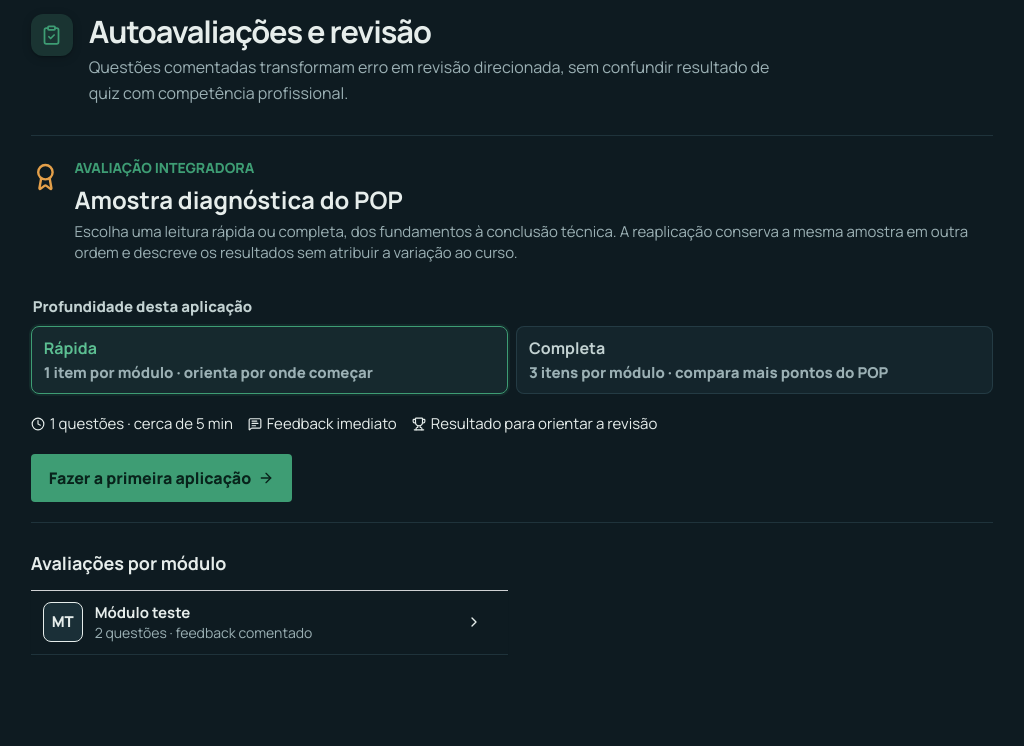
Test: interação acessível das autoavaliações › preserva confiança e remediação sem expor metadados de autoria
Click the button "MT Módulo teste 2 questões · feedback comentado".
click(269, 622)  # box [31,590,508,655]
(page scrolled)
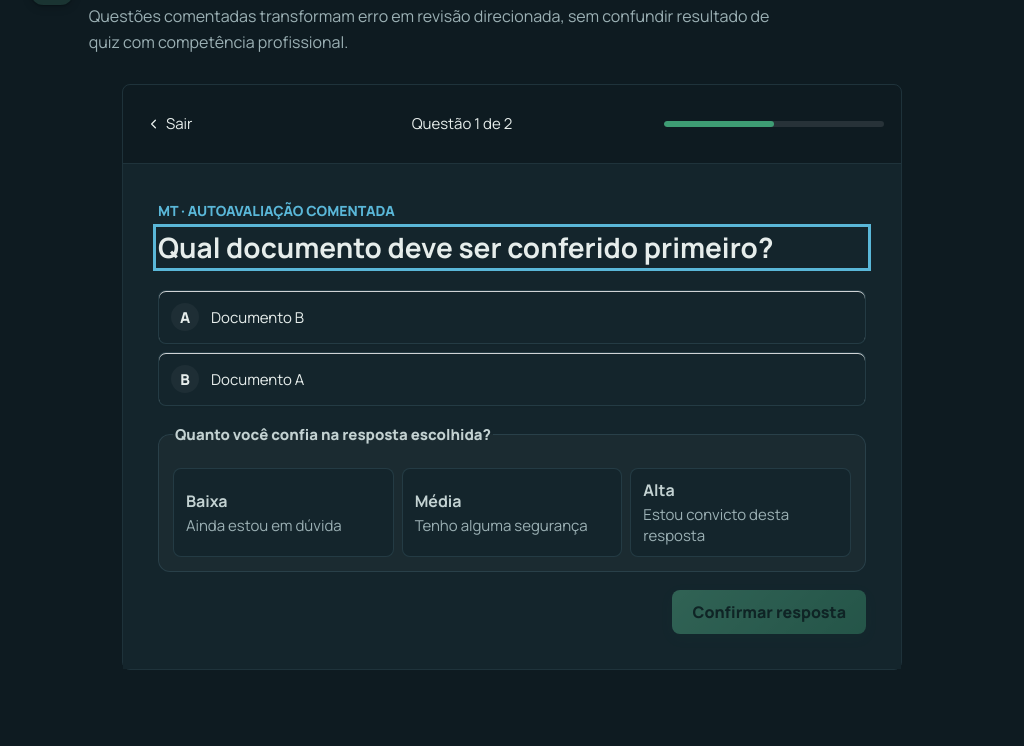
Click the button "A Documento B".
click(258, 317)  # box [158,290,866,344]
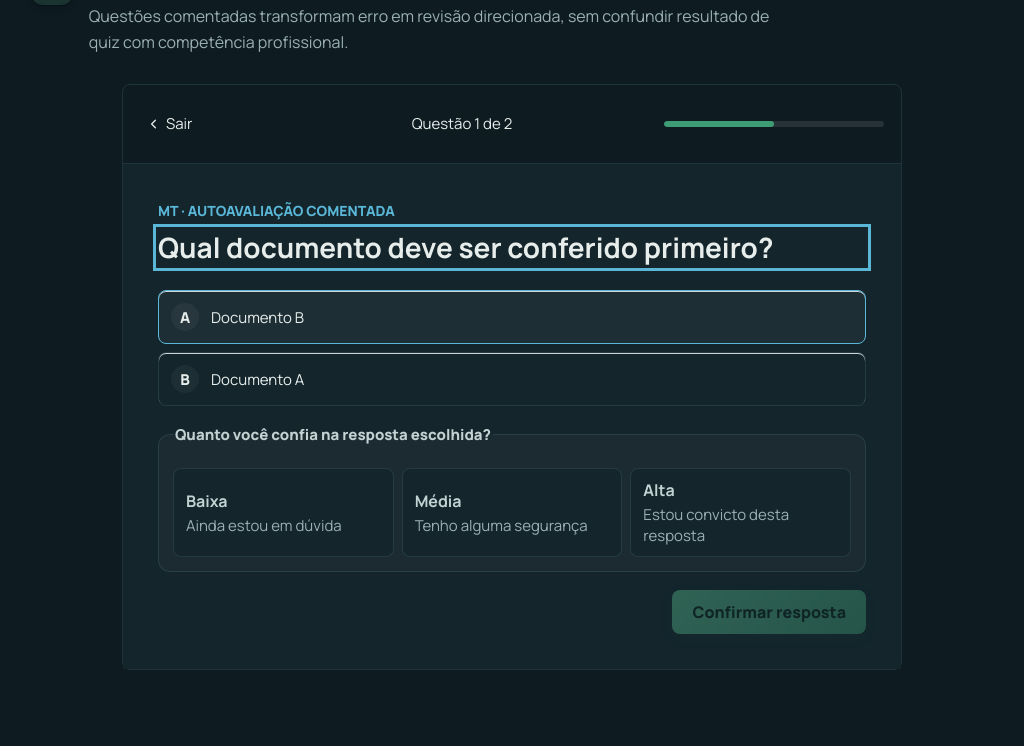
Click the button "Alta Estou convicto desta resposta".
click(741, 513)  # box [630,468,851,557]
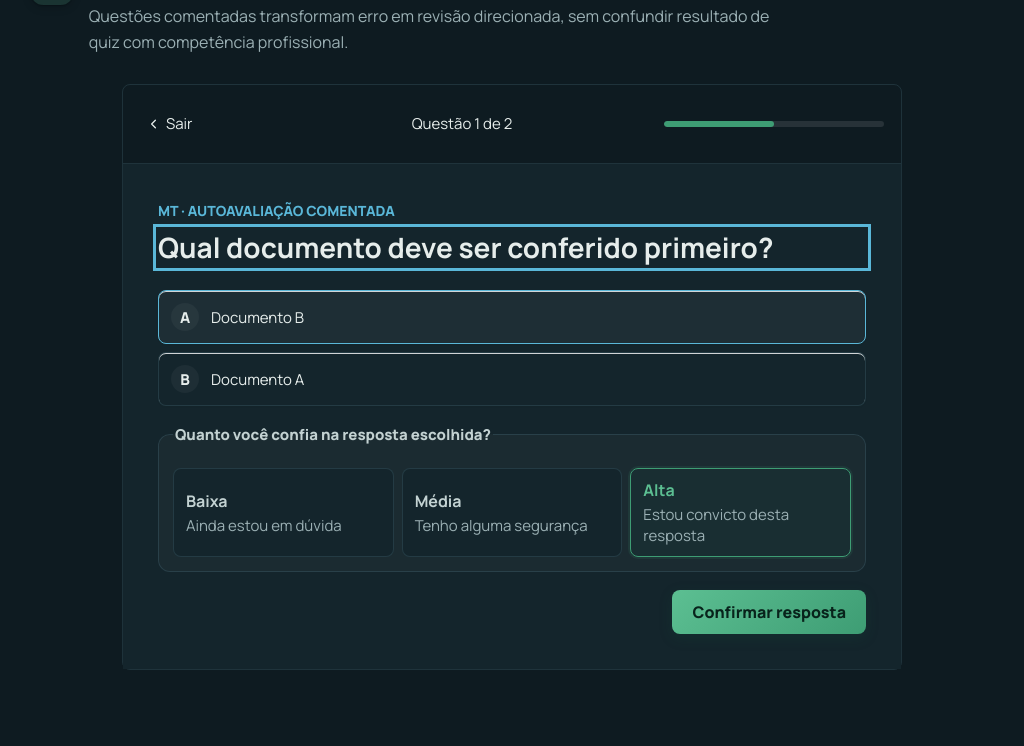
Click the button "Confirmar resposta".
click(769, 612)  # box [672,590,866,634]
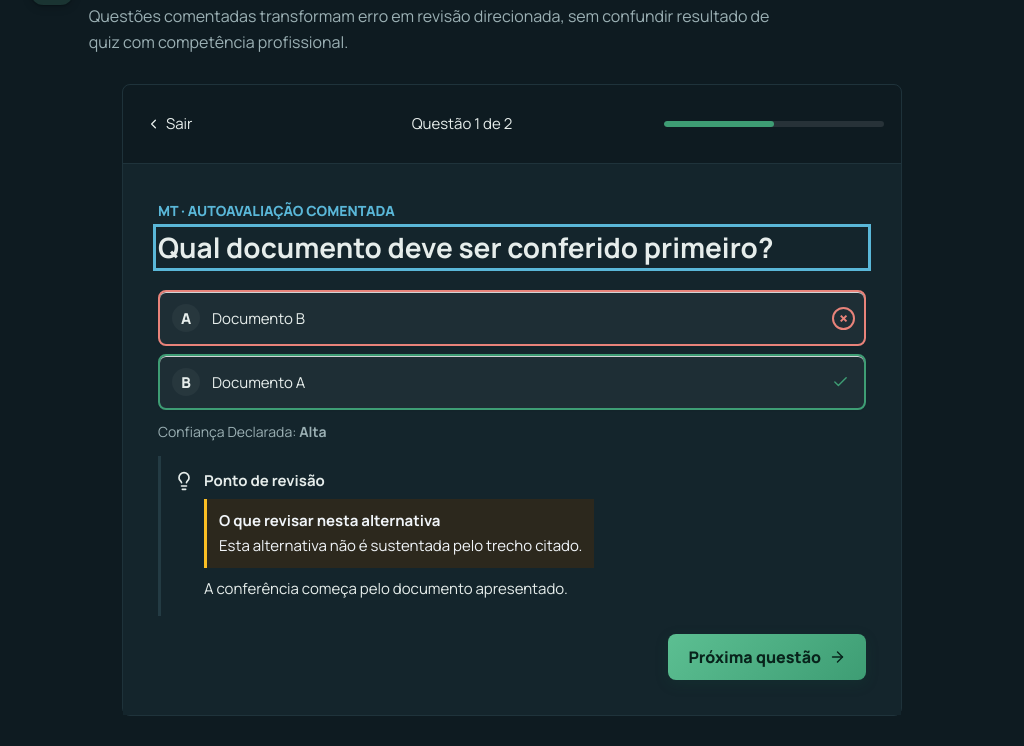
expect the text "Confiança declarada: alta" is shown: met, box [158,422,327,441]
expect the element with class "distractor-explanation" shows "Esta alternativa não é sustentada pelo trecho citado": met, box [219,535,582,556]
